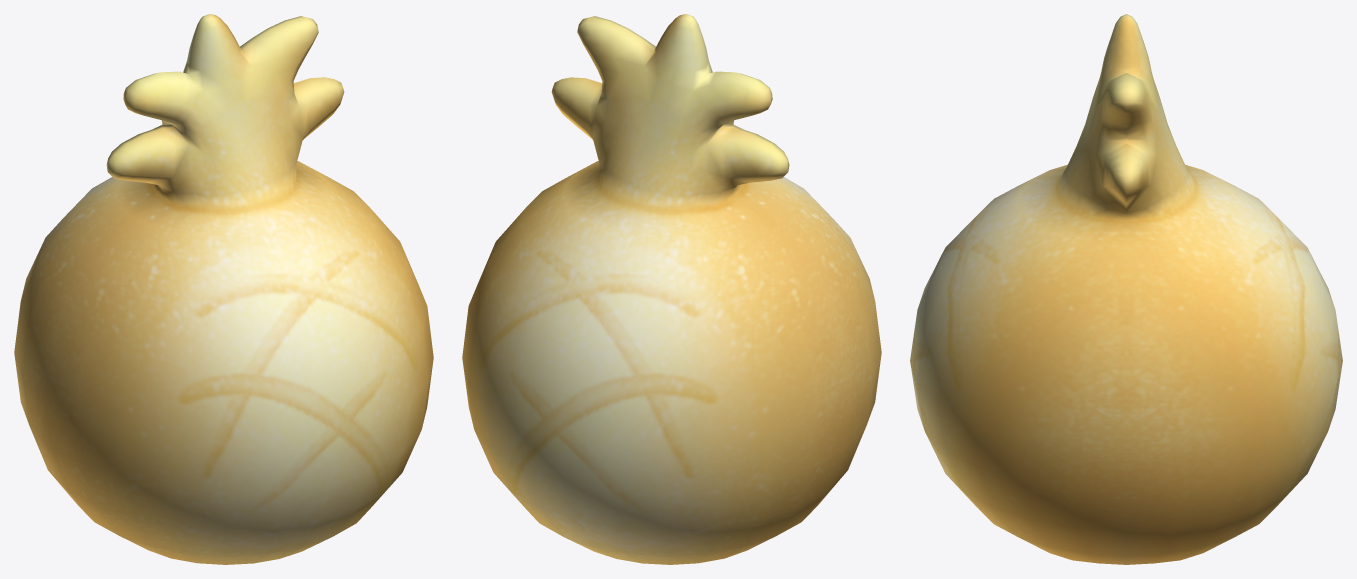
File: 新雪糕工厂-制作雪糕-雪糕和模具02-黄.FBX
The picture shows the model from 3 angles, left to right: view 1: azimuth 30°, elevation 25°; view 2: azimuth 150°, elevation 25°; view 3: azimuth 270°, elevation 25°; orthographic projection.
Parts seen in each view (by area): view 1: 新雪糕工厂-制作雪糕-雪糕和模具02-黄; view 2: 新雪糕工厂-制作雪糕-雪糕和模具02-黄; view 3: 新雪糕工厂-制作雪糕-雪糕和模具02-黄.
Part boxes in pixels (x1,y1,x2,y2): 新雪糕工厂-制作雪糕-雪糕和模具02-黄: (14, 14, 433, 564); 新雪糕工厂-制作雪糕-雪糕和模具02-黄: (462, 14, 881, 564); 新雪糕工厂-制作雪糕-雪糕和模具02-黄: (910, 14, 1342, 564).
Bounding box in the file's own units: 15.98 × 22.79 × 17.08.
